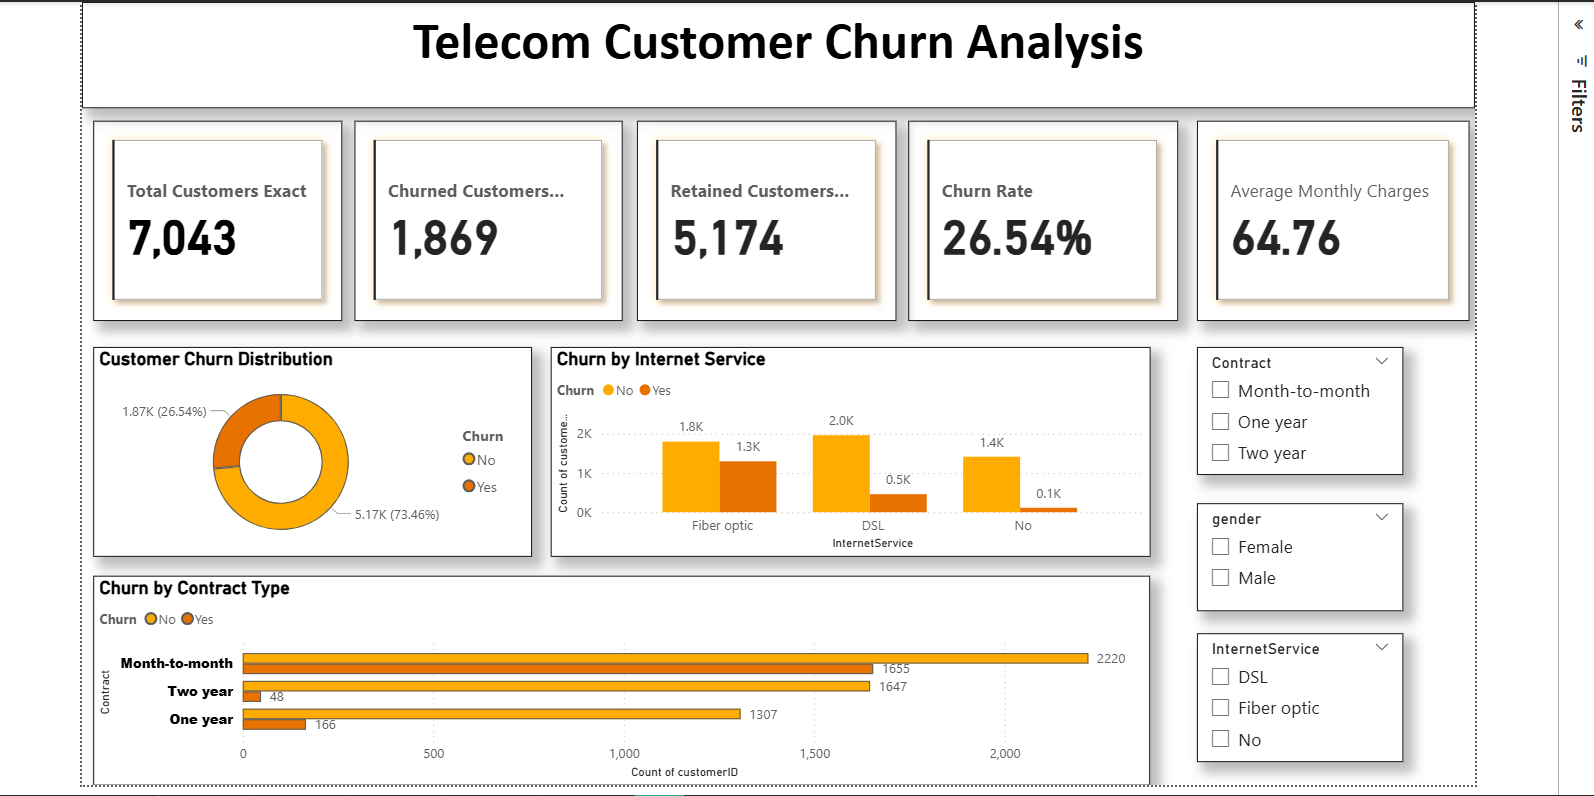

This screenshot's page, from the dashboard's own definition file:
{"tool":"powerbi","page":{"name":"Page 1","canvas":[1280,720],"ordinal":0},"visuals":[{"type":"cardVisual","fields":{"Data":["Churn_CSV.Total Customers Exact"]},"box":[10.5,109.3,229.1,183.7],"z":0},{"type":"cardVisual","fields":{"Data":["Churn_CSV.Churned Customers Exact"]},"box":[250,109.3,246.5,183.7],"z":1000},{"type":"cardVisual","fields":{"Data":["Churn_CSV.Churn Rate"]},"box":[759.3,109.3,247.7,183.7],"z":2000},{"type":"cardVisual","fields":{"Data":["Churn_CSV.Retained Customers Exact"]},"box":[510.5,109.3,238.4,183.7],"z":3000},{"type":"donutChart","title":"Customer Churn Distribution","fields":{"Category":["Churn_CSV.Churn"],"Y":["CountNonNull(Churn_CSV.customerID)"]},"box":[10.5,317.4,403.5,193],"z":4000},{"type":"clusteredBarChart","title":"Churn by Contract Type","fields":{"Category":["Churn_CSV.Contract"],"Series":["Churn_CSV.Churn"],"Y":["CountNonNull(Churn_CSV.customerID)"]},"box":[10.5,526.7,970.9,193],"z":5000},{"type":"clusteredColumnChart","title":"Churn by Internet Service","fields":{"Category":["Churn_CSV.InternetService"],"Y":["CountNonNull(Churn_CSV.customerID)"],"Series":["Churn_CSV.Churn"]},"box":[430.2,317.4,551.2,193],"z":6000},{"type":"slicer","fields":{"Values":["Churn_CSV.Contract"]},"box":[1024.4,317.4,189.5,117.4],"z":7000},{"type":"slicer","fields":{"Values":["Churn_CSV.gender"]},"box":[1024.4,460.5,189.5,98.8],"z":8000},{"type":"slicer","fields":{"Values":["Churn_CSV.InternetService"]},"box":[1024.4,580.2,189.5,118.6],"z":9000},{"type":"textbox","box":[0,0,1280.2,97.7],"z":10000},{"type":"cardVisual","title":"Average Monthly Charges","fields":{"Data":["Churn_CSV.Avg Monthly Charge"]},"box":[1024.4,109.3,250,183.7],"z":11000}]}

Visuals, with their boxes in screenshot pixels (x1, y1, x2, y2):
cardVisual - Churn_CSV.Total Customers Exact: (left=86, top=119, right=336, bottom=320)
cardVisual - Churn_CSV.Churned Customers Exact: (left=348, top=119, right=617, bottom=320)
cardVisual - Churn_CSV.Churn Rate: (left=904, top=119, right=1174, bottom=320)
cardVisual - Churn_CSV.Retained Customers Exact: (left=632, top=119, right=892, bottom=320)
"Customer Churn Distribution" donutChart: (left=86, top=346, right=527, bottom=557)
"Churn by Contract Type" clusteredBarChart: (left=86, top=575, right=1146, bottom=786)
"Churn by Internet Service" clusteredColumnChart: (left=544, top=346, right=1146, bottom=557)
slicer - Churn_CSV.Contract: (left=1193, top=346, right=1400, bottom=475)
slicer - Churn_CSV.gender: (left=1193, top=503, right=1400, bottom=611)
slicer - Churn_CSV.InternetService: (left=1193, top=633, right=1400, bottom=763)
textbox: (left=75, top=0, right=1472, bottom=107)
"Average Monthly Charges" cardVisual: (left=1193, top=119, right=1466, bottom=320)
